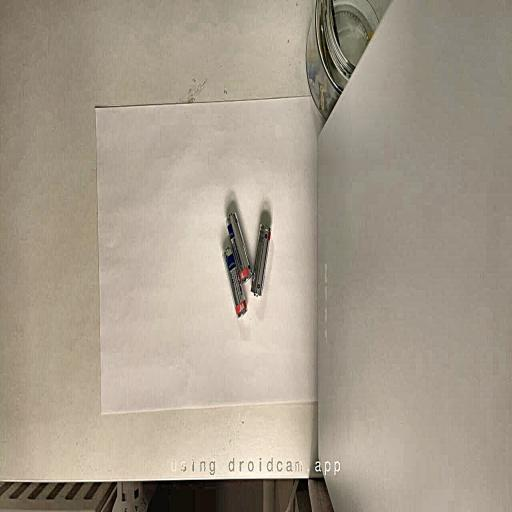RainbowAA: (226, 211, 252, 282), (223, 247, 246, 317), (251, 223, 271, 296)
